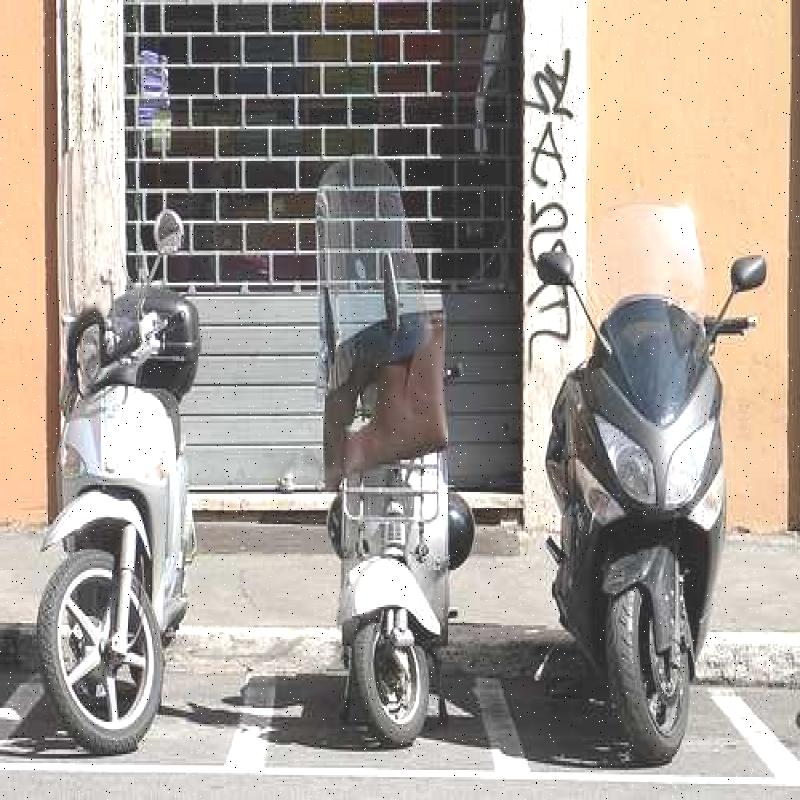bike: (528, 195, 778, 751), (18, 236, 212, 727), (311, 226, 476, 742)
